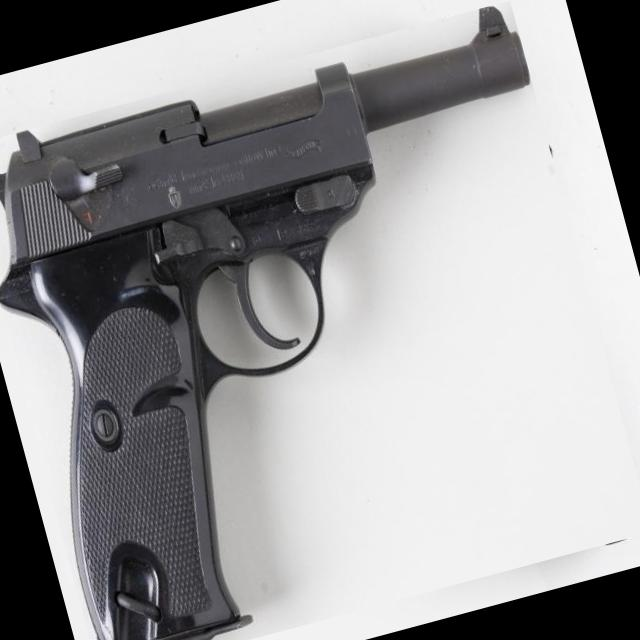Gun: (0, 7, 528, 640)
